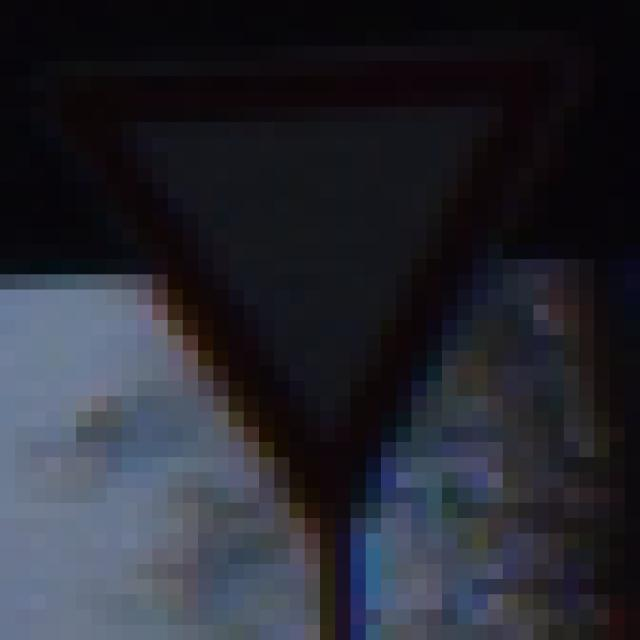Give Way: (77, 77, 565, 565)
